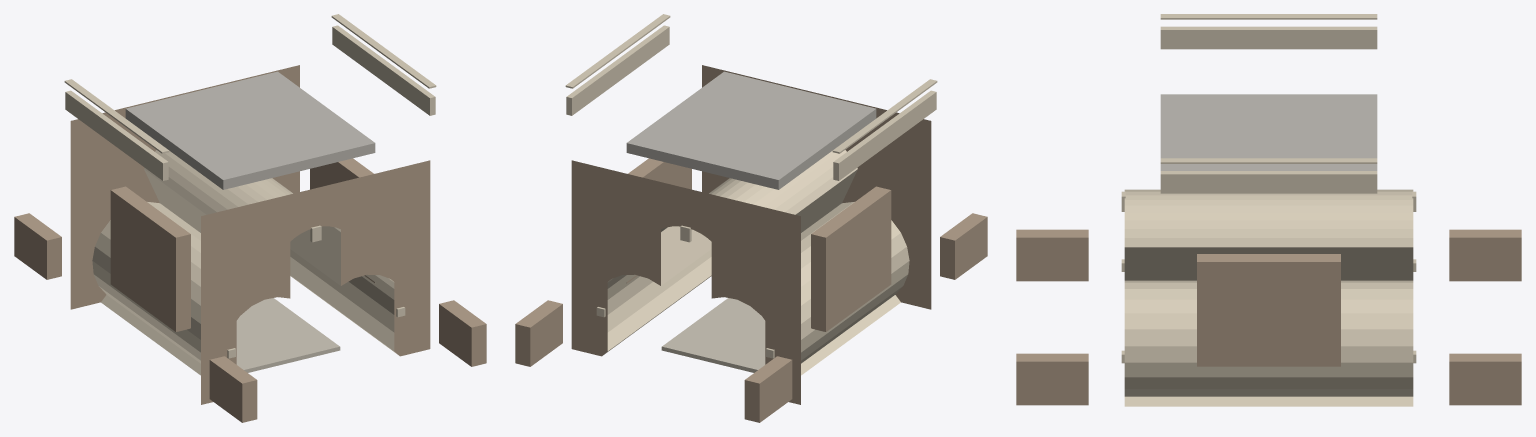
The model's file is cp_trefoil_arch.glb.
3 views of the same model, side by side, from view 1: azimuth 30°, elevation 25°; view 2: azimuth 150°, elevation 25°; view 3: azimuth 270°, elevation 25° (orthographic). The views are drawn at different scales.
Parts seen in each view (by area): view 1: TrefoilArch; view 2: TrefoilArch; view 3: TrefoilArch.
Boxes of the visible parts, <box> form: TrefoilArch: <box>14,14,486,422</box>; TrefoilArch: <box>515,14,987,422</box>; TrefoilArch: <box>1016,14,1521,406</box>.
Size of the model in its own units: 7.29 by 6.41 by 10.5.
